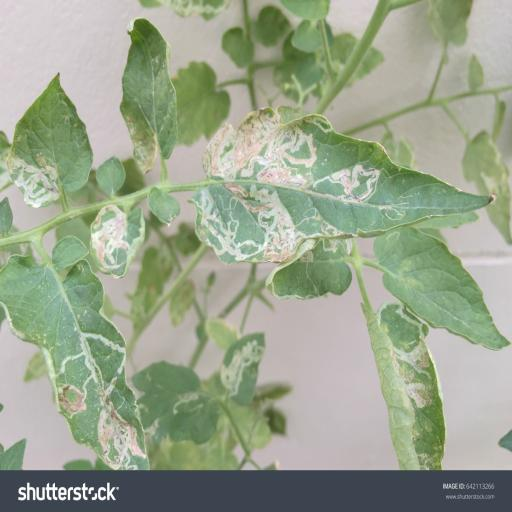disease_tomato: (184, 104, 500, 266), (0, 234, 150, 468), (359, 299, 447, 471), (6, 70, 94, 210), (88, 204, 144, 282)
